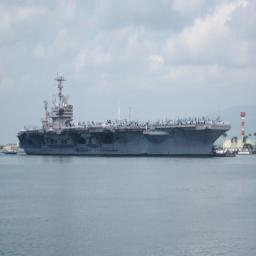Portanaves: (18, 71, 234, 159)
